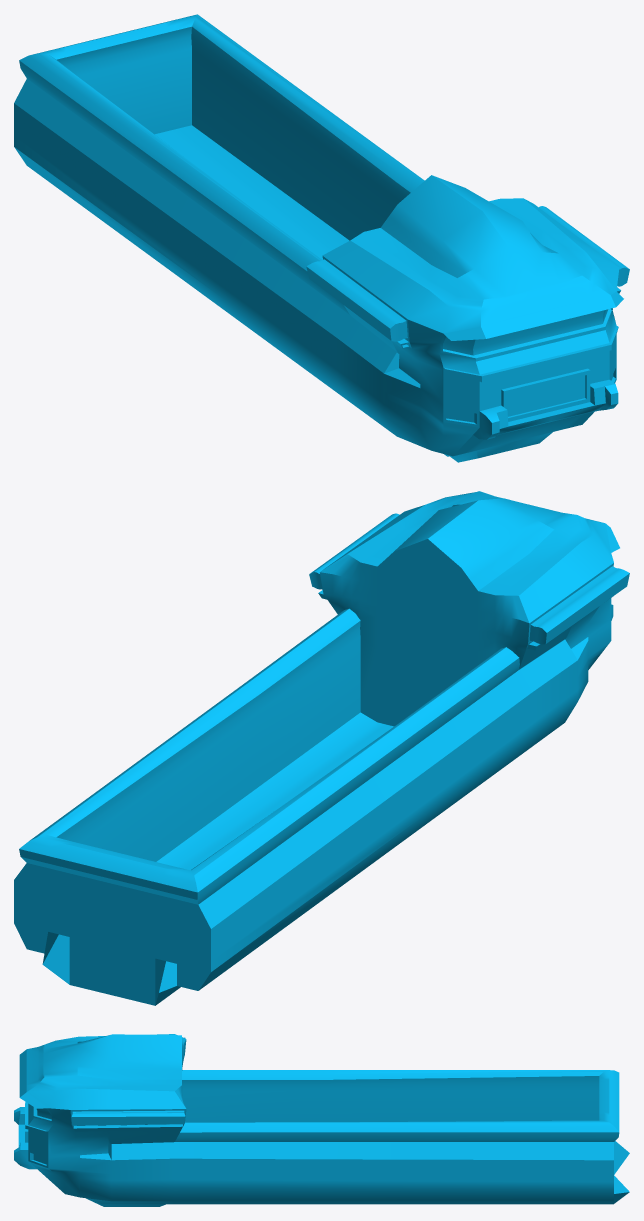
The model's file is cargorubijam.fbx.
3 views of the same model, one above another, from view 1: azimuth 30°, elevation 25°; view 2: azimuth 150°, elevation 25°; view 3: azimuth 270°, elevation 25° (orthographic). The views are drawn at different scales.
Visible parts, largest first — view 1: Cube.001; view 2: Cube.001; view 3: Cube.001.
Boxes of the visible parts, box(x1,y1,x2,y2) form: Cube.001: box(14, 14, 629, 462); Cube.001: box(14, 491, 629, 1005); Cube.001: box(14, 1034, 629, 1206).
Bounding box in the file's own units: 2565 × 2445 × 8403.
